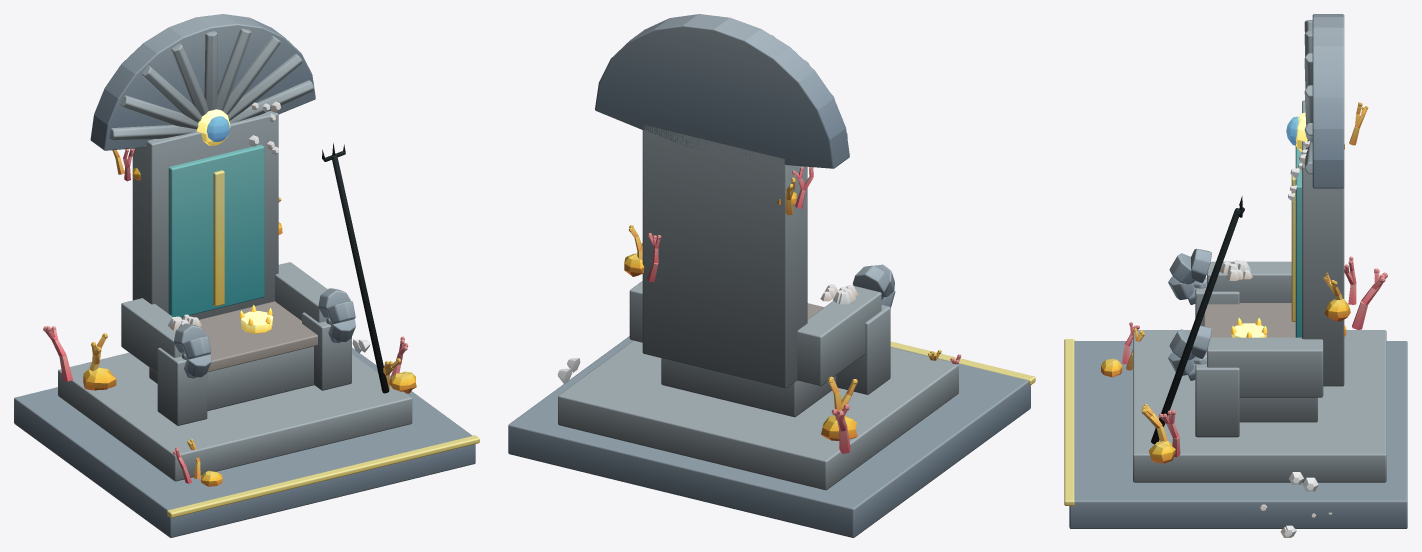
Rendered from tideking_throne.glb.
The picture shows the model from 3 angles, left to right: view 1: azimuth 30°, elevation 25°; view 2: azimuth 150°, elevation 25°; view 3: azimuth 270°, elevation 25°; orthographic projection. The views are drawn at different scales.
Visible parts, largest first — view 1: tideking_throne; view 2: tideking_throne; view 3: tideking_throne.
Boxes of the visible parts, left/top/right/bottom form: tideking_throne: left=14, top=14, right=479, bottom=537; tideking_throne: left=508, top=14, right=1035, bottom=537; tideking_throne: left=1064, top=14, right=1407, bottom=537.
Size of the model in its own units: 3.69 by 4.48 by 3.25.
4 materials, 4 textured.
